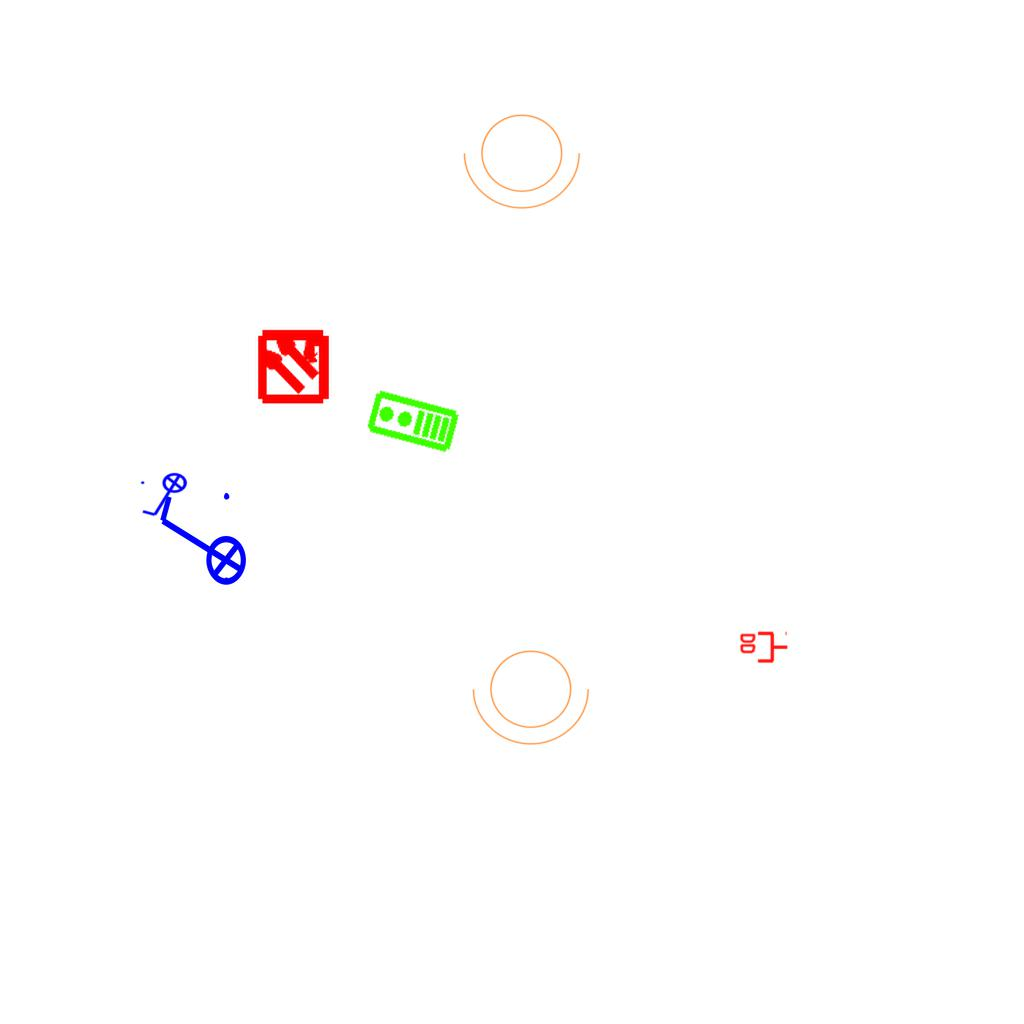Ausschalter_beleuchtet: (152, 487, 248, 599), (138, 472, 194, 520)
Datenanschluss_zweifach: (738, 631, 789, 665)
Gegensprechanlage_mit_Video: (363, 387, 462, 457)
OT_Multisensormelder_(Kombination_RMO_WMD): (237, 308, 350, 421)
Scheinwerfer_fuer_Alarmbeleuchtung: (459, 102, 591, 214), (468, 638, 600, 750)
